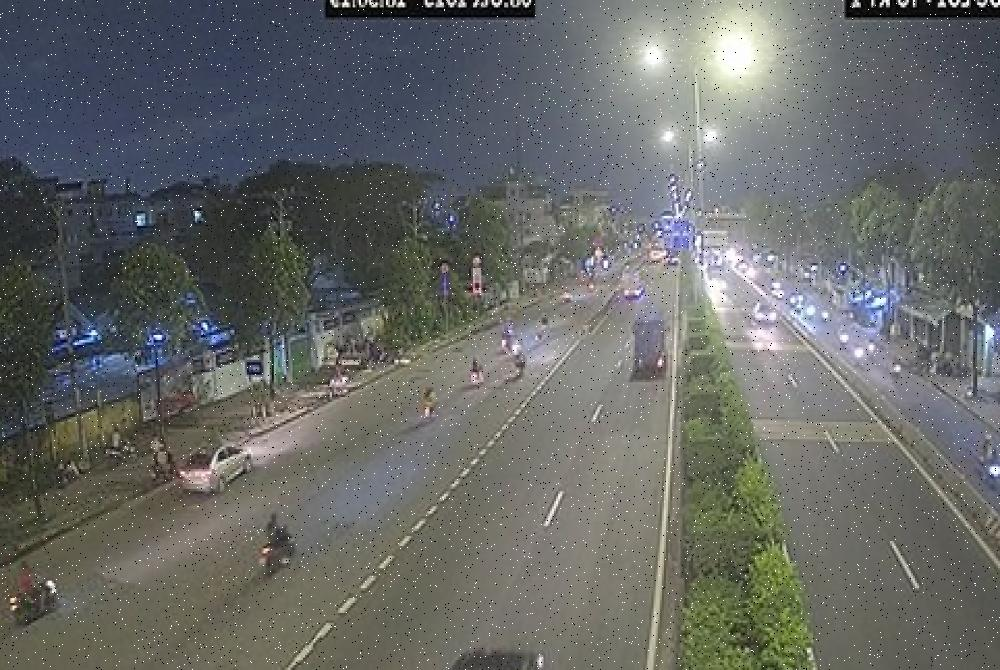car: (166, 414, 282, 528)
